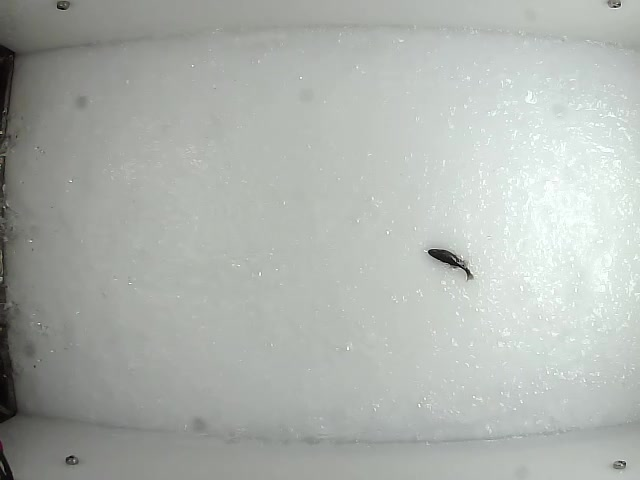fish: (425, 246, 477, 286)
